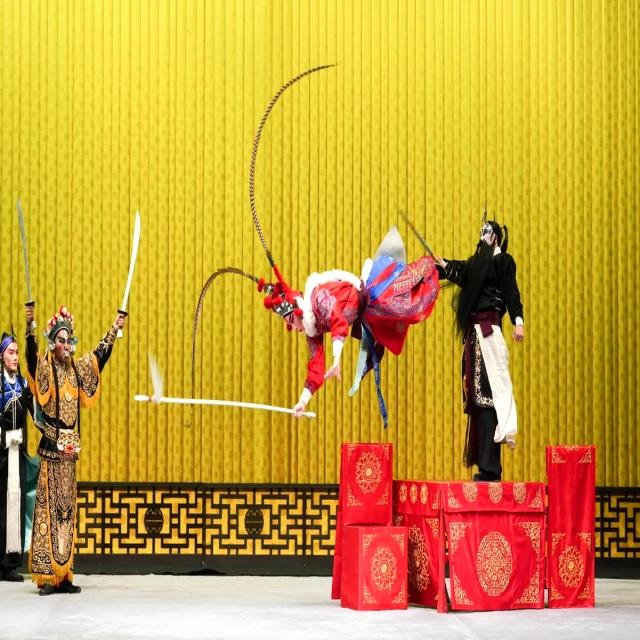Reeves-s Pheasant: (249, 63, 336, 271), (171, 266, 262, 384)
